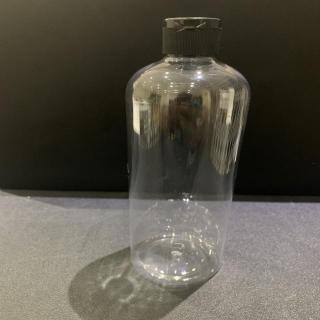Plastic-bottle: (121, 4, 257, 298)
